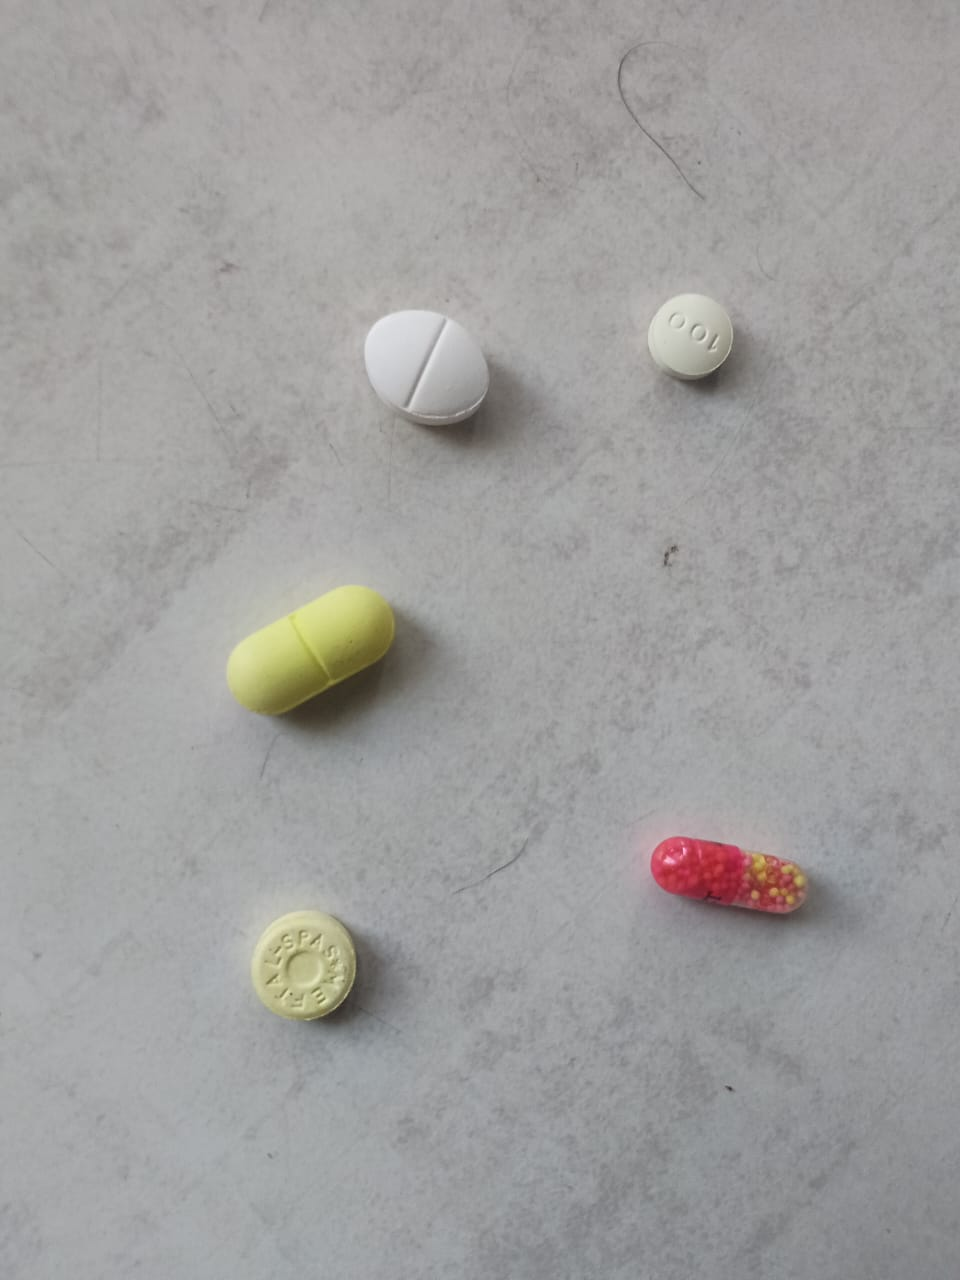Coldact: (619, 834, 845, 932)
Dolo 650: (331, 280, 514, 462)
Meftal SPAS: (219, 875, 372, 1039)
Nise: (626, 269, 784, 415)
Norflox TZ: (195, 568, 411, 729)
